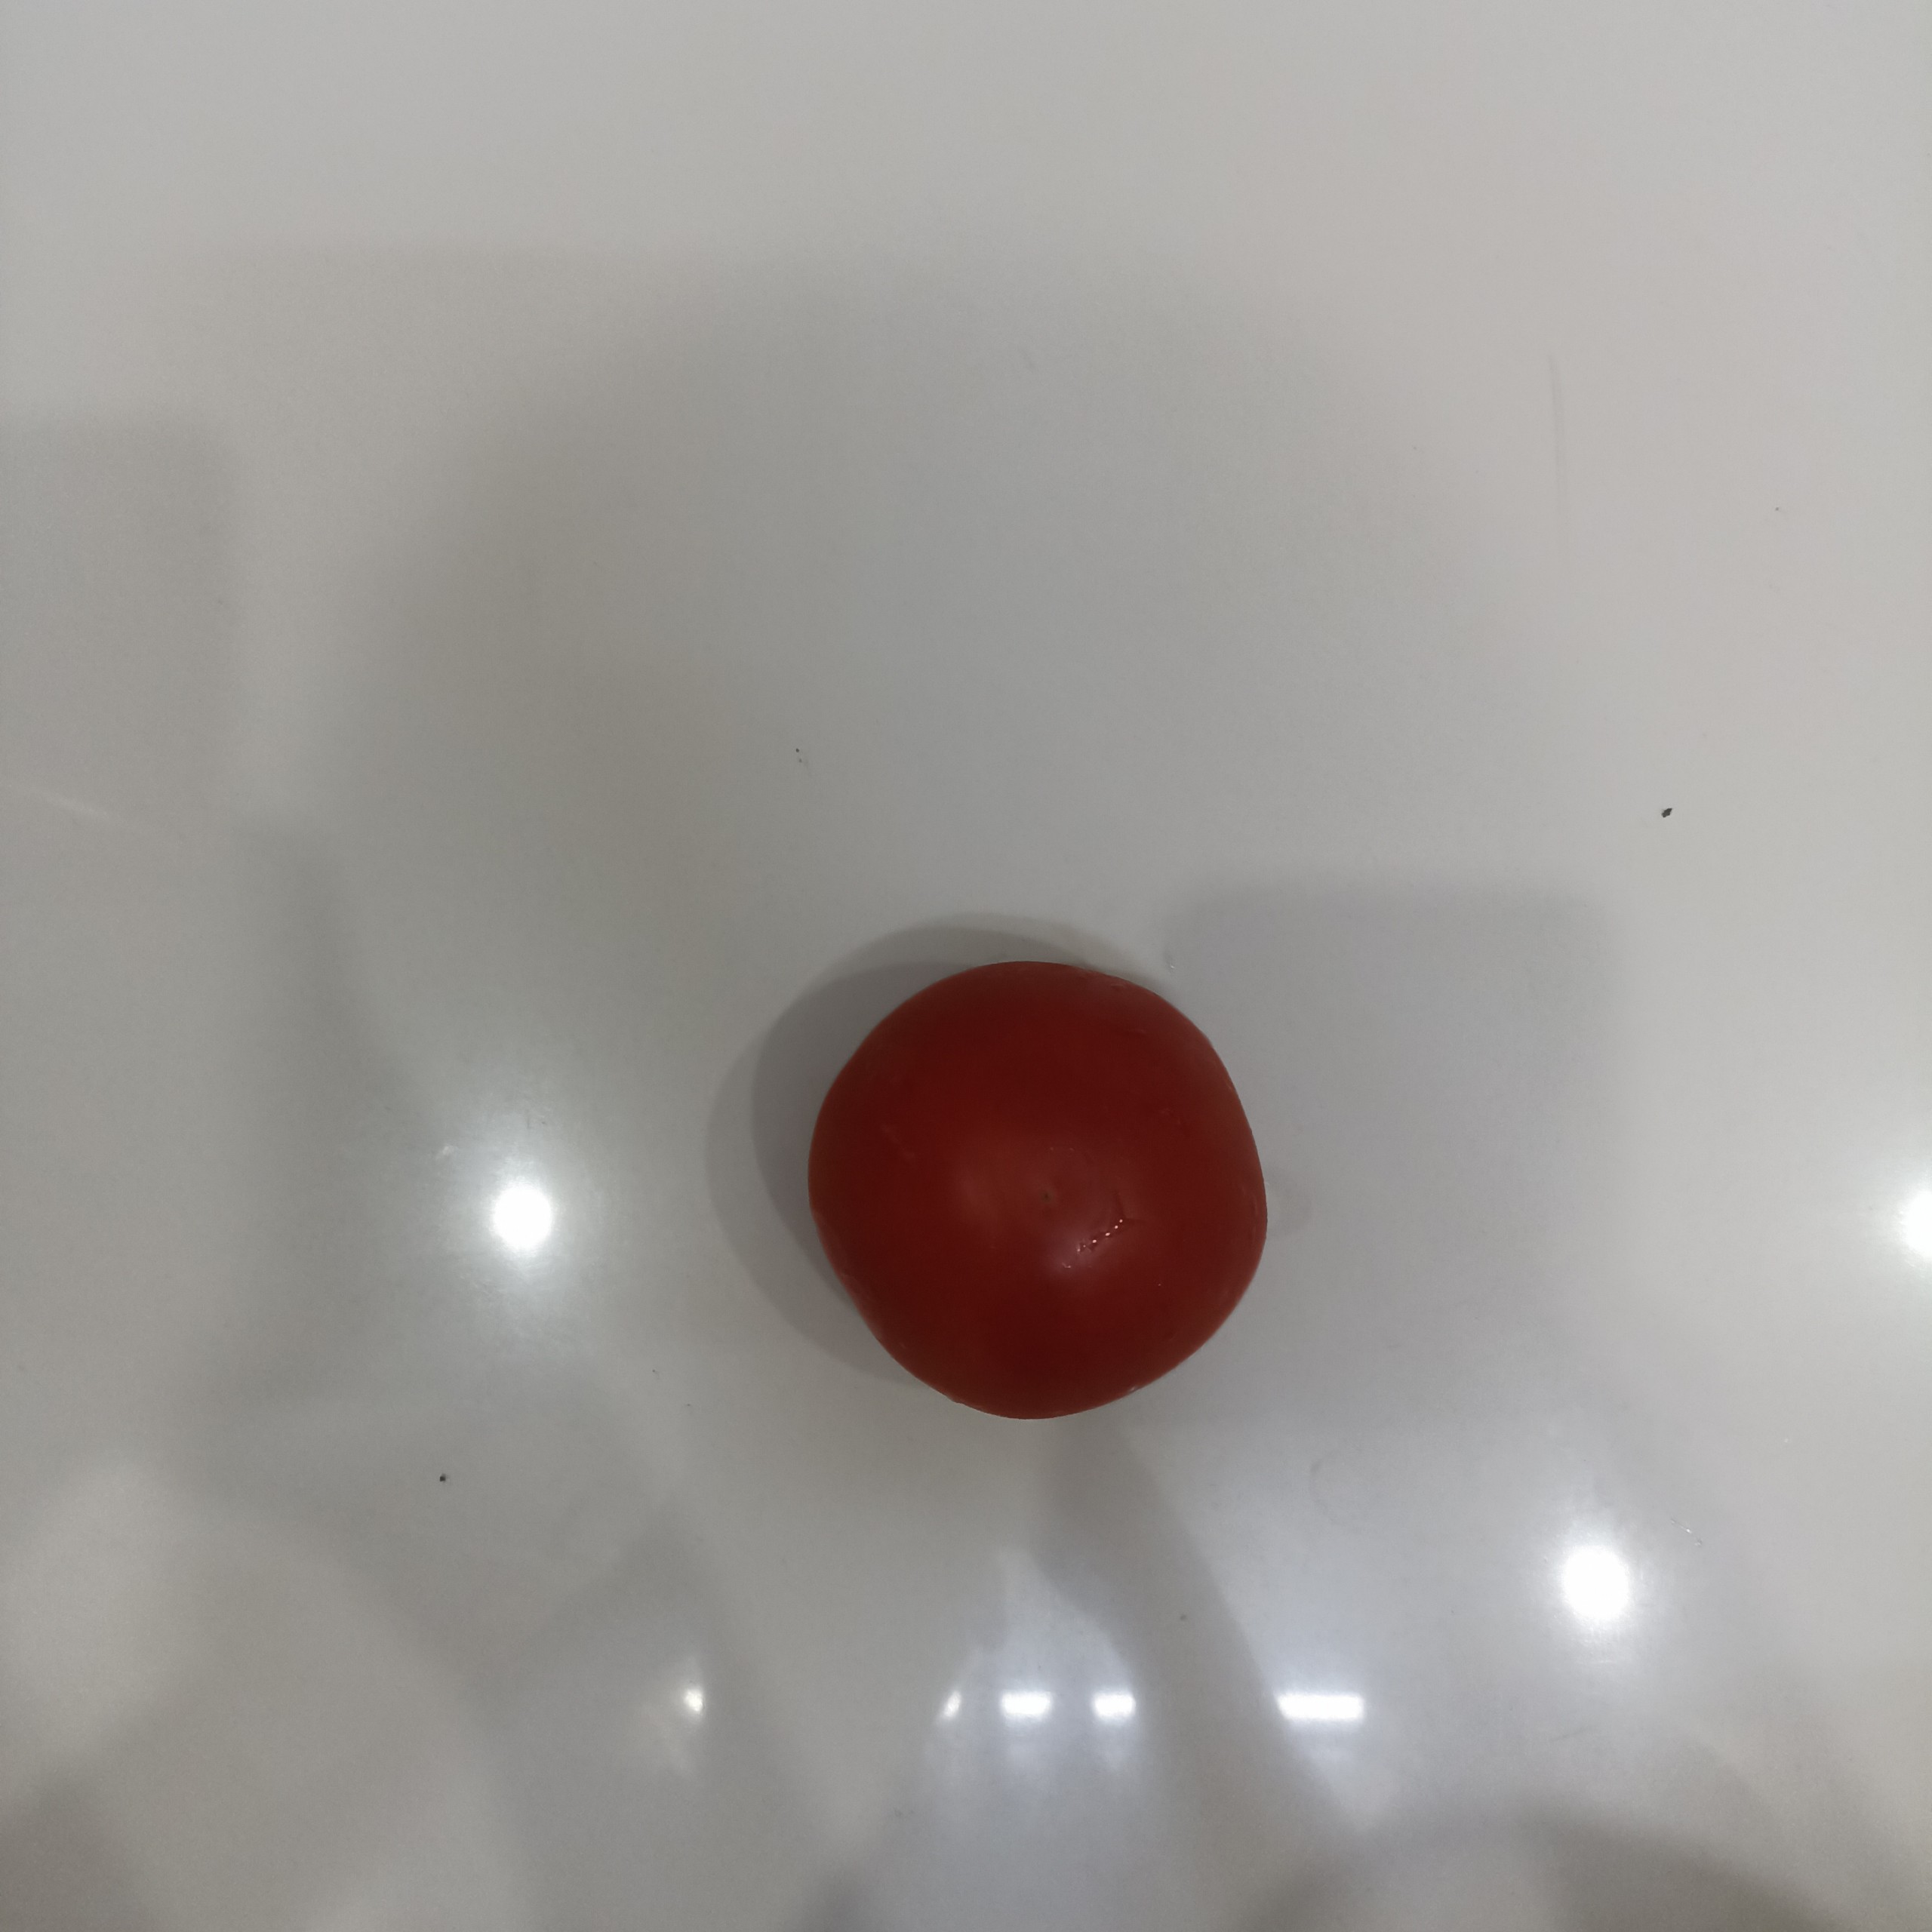Ca chua: (809, 961, 1272, 1424)
